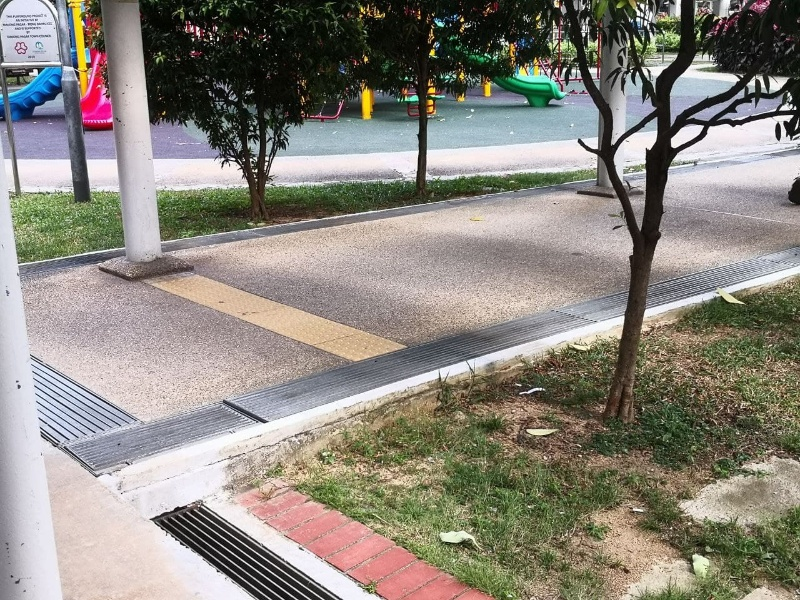slope: (356, 155, 624, 389)
